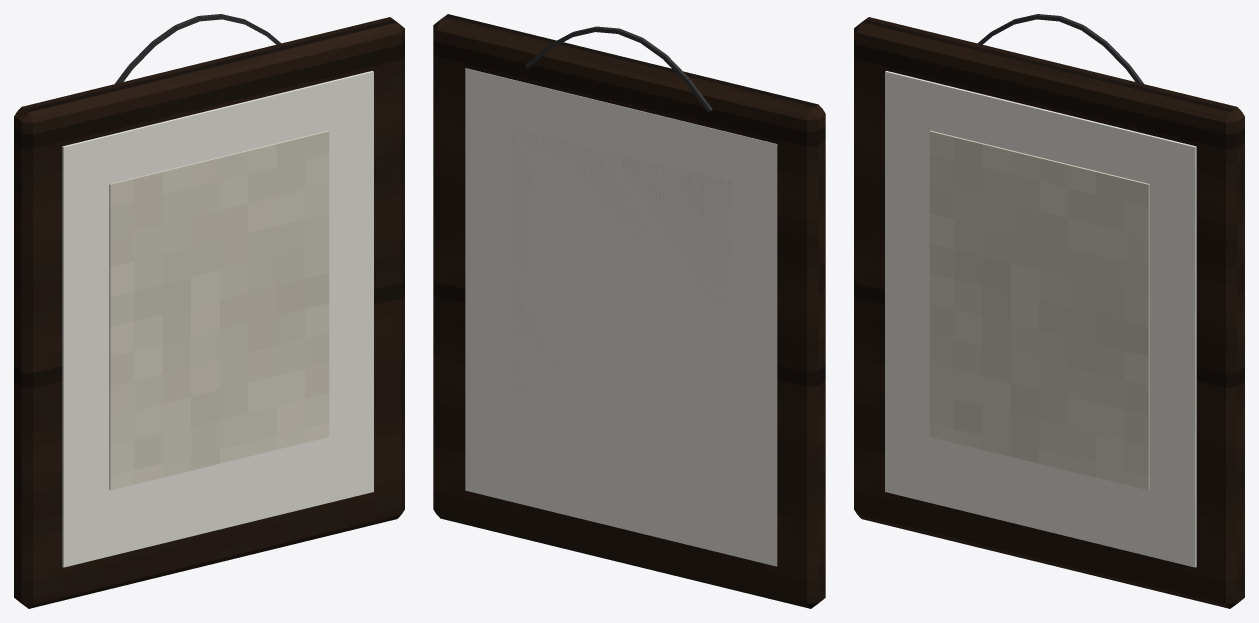
Rendered from photo_frame.glb.
3 views of the same model, side by side, from view 1: azimuth 30°, elevation 25°; view 2: azimuth 150°, elevation 25°; view 3: azimuth 330°, elevation 25° (orthographic).
Visible parts, largest first — view 1: photo_frame; view 2: photo_frame; view 3: photo_frame.
Boxes of the visible parts, x1=… form: photo_frame: x1=14, y1=14, x2=404, y2=608; photo_frame: x1=433, y1=14, x2=825, y2=608; photo_frame: x1=854, y1=14, x2=1244, y2=608.
Size of the model in its own units: 0.42 by 0.562 by 0.0415.
4 materials, 2 textured.
